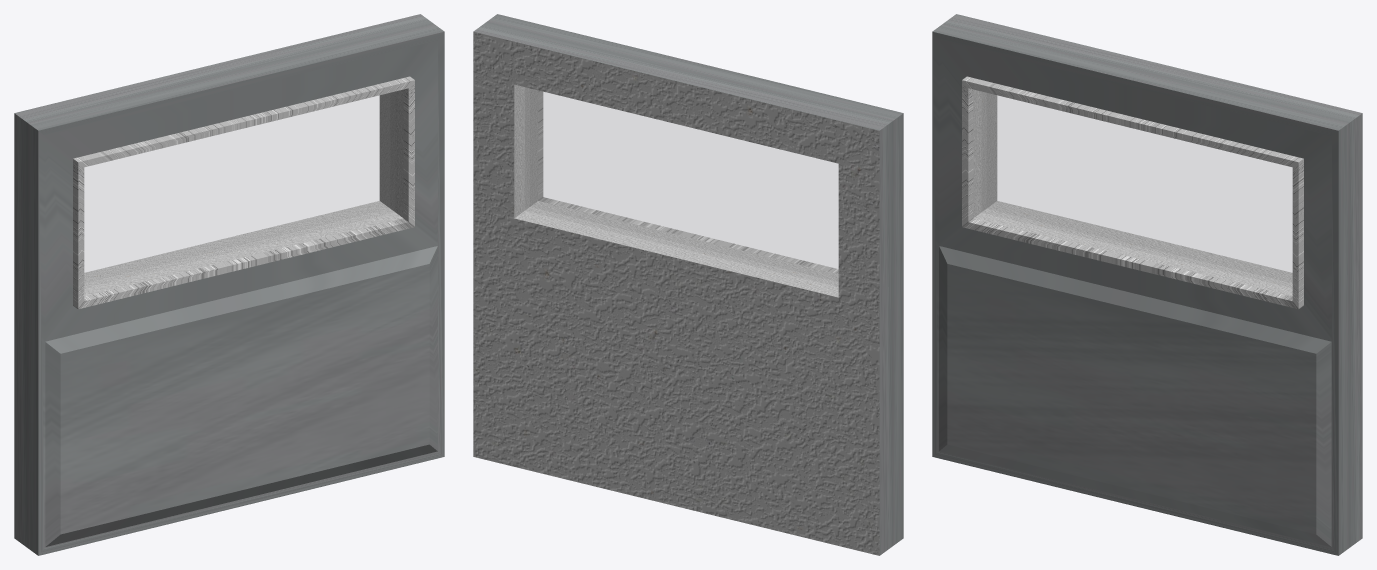
Rendered from WallAsset3.FBX.
3 renders of one model, left to right at view 1: azimuth 30°, elevation 25°; view 2: azimuth 150°, elevation 25°; view 3: azimuth 330°, elevation 25°, orthographic.
Parts seen in each view (by area): view 1: Box002, Box003; view 2: Box002, Box003; view 3: Box002, Box003.
Part boxes in pixels (x1,y1,x2,y2): Box002: [14, 14, 444, 555]; Box003: [85, 92, 394, 282]; Box002: [473, 14, 903, 555]; Box003: [525, 88, 837, 281]; Box002: [932, 14, 1362, 555]; Box003: [982, 93, 1291, 282].
Bounding box in the file's own units: 464 × 464 × 57.7.
Materials: 3 (2 with a texture image).
